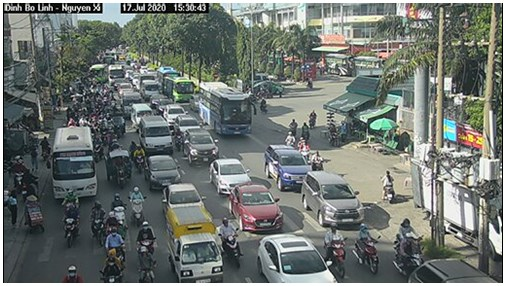xe_ba_gac: (107, 150, 131, 187)
xe_buyt: (197, 81, 255, 136), (54, 127, 96, 198), (165, 75, 195, 103), (109, 65, 125, 85)
xe_hoi: (257, 234, 340, 284), (301, 171, 366, 226), (228, 185, 285, 232), (262, 145, 309, 191), (206, 158, 253, 193), (184, 129, 220, 166), (147, 156, 181, 187)
xe_khach: (139, 115, 175, 153)
xe_may: (324, 222, 353, 279), (355, 222, 381, 277), (393, 233, 425, 276), (219, 217, 244, 267), (59, 205, 80, 248), (135, 245, 158, 282), (109, 192, 129, 230), (90, 197, 106, 243), (105, 228, 126, 259), (138, 218, 156, 254), (103, 253, 123, 283), (130, 185, 145, 225), (13, 156, 27, 192), (383, 168, 396, 205), (38, 135, 51, 163), (135, 143, 147, 173), (93, 134, 105, 164), (173, 126, 185, 152), (297, 133, 309, 158), (313, 147, 324, 172), (285, 131, 295, 146)
